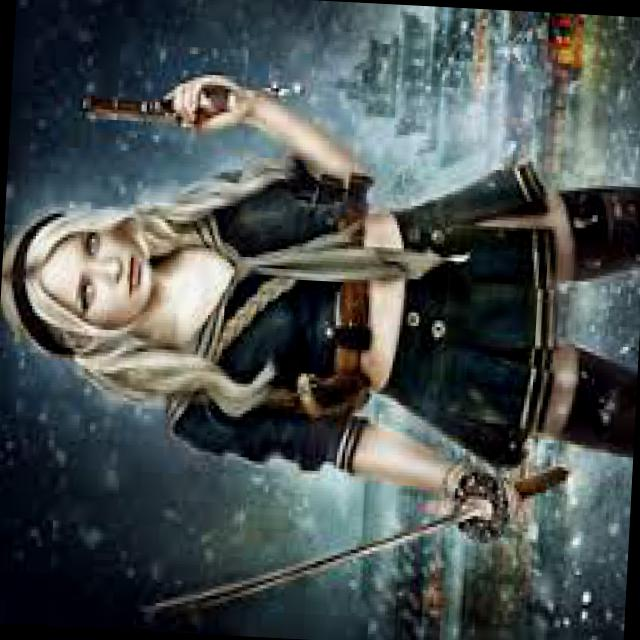handgun: (76, 74, 226, 138)
